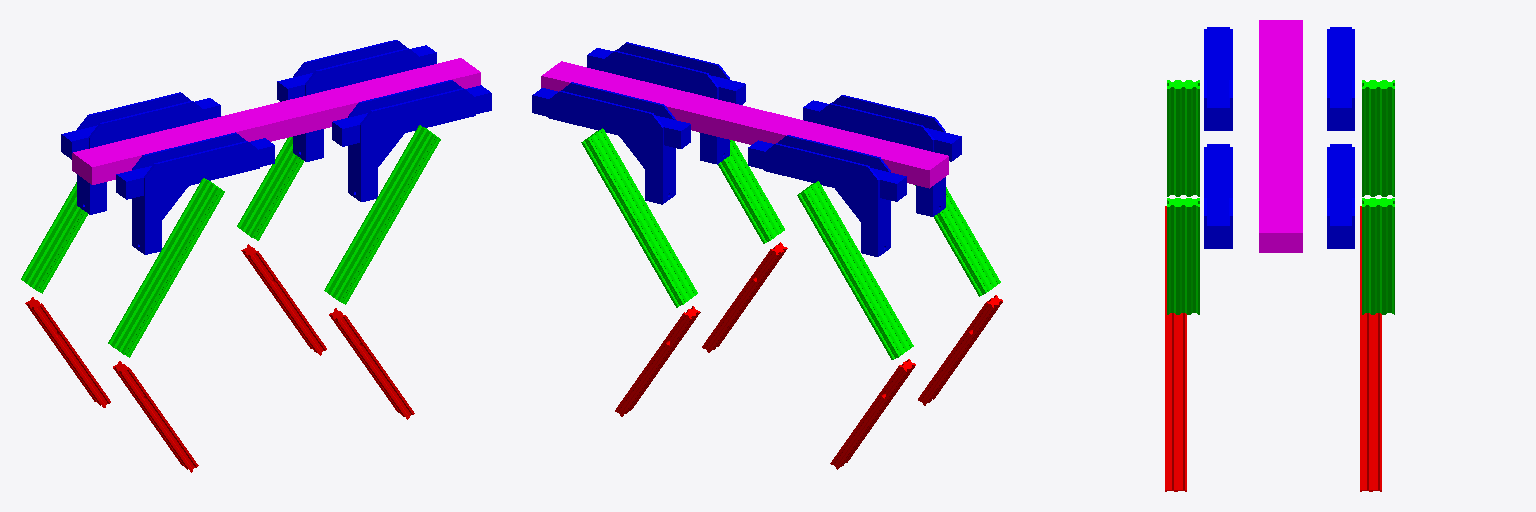
robot.urdf — test_robot:
<robot name="test_robot">
   <link name="corps">
    <contact>
      <lateral_friction value="1"/>
    </contact>
    <visual>
      <geometry>
        <mesh filename="body.stl" scale="0.01 0.01 0.01"/>
      </geometry>  
      <material name="violet">
        <color rgba="1 0 1 1"/>
      </material>
    </visual>
    <collision>
      <geometry>
        <mesh filename="body.stl" scale="0.01 0.01 0.01"/>
      </geometry>  
    </collision>
    <inertial>
    	<mass value="10"/>
       <inertia ixx="1e-3" ixy="0.0" ixz="0.0" iyy="1e-3" iyz="0.0" izz="1e-3"/>
    </inertial>
  </link>

  <link name="tibia1">
    <contact>
      <lateral_friction value="1"/>
  </contact>
    <visual>
      <origin xyz="1.5 0.5 0.5" rpy="0 0 0" />
      <geometry>
        <mesh filename="leg.stl" scale="0.01 0.01 0.01"/>
      </geometry>
      <material name="red">
        <color rgba="1 0 0 1"/>
      </material>
    </visual>
    <collision>
      <origin xyz="1.5 0.5 0.5" rpy="0 0 0" />
      <geometry>
         <mesh filename="leg.stl" scale="0.01 0.01 0.01"/>
      </geometry>
    </collision>
    <inertial>
    	<mass value="1"/>
       <inertia ixx="1e-3" ixy="0.0" ixz="0.0" iyy="1e-3" iyz="0.0" izz="1e-3"/>
    </inertial>
  </link>

  <link name="cuisse1">
    <contact>
      <lateral_friction value="1"/>
  </contact>
    <visual>
       <origin xyz="0 -0.3 -3.0" rpy="0 0 0" />
      <geometry>
       <mesh filename="leg14.stl" scale="0.01 0.01 0.01"/>
      </geometry>
      <material name="green">
        <color rgba="0 1 0 1"/>
      </material>
    </visual>
    <collision>
      <origin xyz="0 -0.3 -3.0" rpy="0 0 0" />
      <geometry>
        <mesh filename="leg14.stl" scale="0.01 0.01 0.01"/>
      </geometry>
    </collision>

   <inertial>
    	<mass value="1"/>
       <inertia ixx="1e-3" ixy="0.0" ixz="0.0" iyy="1e-3" iyz="0.0" izz="1e-3"/>
    </inertial>
  </link>

  <link name="hanche1">
    <contact>
      <lateral_friction value="1"/>
  </contact>
    <visual>
      <origin xyz="0 -0.6 -2.8" rpy="0 0 0" />
      <geometry>
        <mesh filename="hip.stl" scale="0.01 0.01 0.01"/>
      </geometry>  
      <material name="blue">
        <color rgba="0 0 1 1"/>
      </material>
    </visual>
    <collision>
      <origin xyz="0 -0.6 -2.8" rpy="0 0 0" />
      <geometry>
        <mesh filename="hip.stl" scale="0.01 0.01 0.01"/>
      </geometry>
    </collision>
    <inertial>
    	<mass value="1"/>
       <inertia ixx="1e-3" ixy="0.0" ixz="0.0" iyy="1e-3" iyz="0.0" izz="1e-3"/>
    </inertial>
  </link>

  <link name="tibia2">
    <contact>
      <lateral_friction value="1"/>
  </contact>
    <visual>
      <origin xyz="1.5 0.5 0.5" rpy="0 0 0" />
      <geometry>
        <mesh filename="leg.stl" scale="0.01 0.01 0.01"/>
      </geometry>
      <material name="red">
        <color rgba="1 0 0 1"/>
      </material>
    </visual>
    <collision>
      <origin xyz="1.5 0.5 0.5" rpy="0 0 0" />
      <geometry>
         <mesh filename="leg.stl" scale="0.01 0.01 0.01"/>
      </geometry>
    </collision>
    <inertial>
    	<mass value="1"/>
       <inertia ixx="1e-3" ixy="0.0" ixz="0.0" iyy="1e-3" iyz="0.0" izz="1e-3"/>
    </inertial>
  </link>

  <link name="cuisse2">
    <contact>
      <lateral_friction value="1"/>
  </contact>
    <visual>
       <origin xyz="0 -0.3 -3.0" rpy="0 0 0" />
      <geometry>
       <mesh filename="leg14.stl" scale="0.01 0.01 0.01"/>
      </geometry>
      <material name="green">
        <color rgba="0 1 0 1"/>
      </material>
    </visual>
    <collision>
      <origin xyz="0 -0.3 -3.0" rpy="0 0 0" />
      <geometry>
        <mesh filename="leg14.stl" scale="0.01 0.01 0.01"/>
      </geometry>
    </collision>

   <inertial>
    	<mass value="1"/>
       <inertia ixx="1e-3" ixy="0.0" ixz="0.0" iyy="1e-3" iyz="0.0" izz="1e-3"/>
    </inertial>
  </link>

  <link name="hanche2">
    <contact>
      <lateral_friction value="1"/>
  </contact>
    <visual>
      <origin xyz="0 -0.6 -2.8" rpy="0 0 0" />
      <geometry>
        <mesh filename="hip.stl" scale="0.01 0.01 0.01"/>
      </geometry>  
      <material name="blue">
        <color rgba="0 0 1 1"/>
      </material>
    </visual>
    <collision>
      <origin xyz="0 -0.6 -2.8" rpy="0 0 0" />
      <geometry>
        <mesh filename="hip.stl" scale="0.01 0.01 0.01"/>
      </geometry>
    </collision>
    <inertial>
    	<mass value="1"/>
       <inertia ixx="1e-3" ixy="0.0" ixz="0.0" iyy="1e-3" iyz="0.0" izz="1e-3"/>
    </inertial>
  </link>

  <link name="tibia3">
    <contact>
      <lateral_friction value="1"/>
  </contact>
    <visual>
      <origin xyz="1.5 0.5 0.5" rpy="0 0 0" />
      <geometry>
        <mesh filename="leg.stl" scale="0.01 0.01 0.01"/>
      </geometry>
      <material name="red">
        <color rgba="1 0 0 1"/>
      </material>
    </visual>
    <collision>
      <origin xyz="1.5 0.5 0.5" rpy="0 0 0" />
      <geometry>
         <mesh filename="leg.stl" scale="0.01 0.01 0.01"/>
      </geometry>
    </collision>
    <inertial>
    	<mass value="1"/>
       <inertia ixx="1e-3" ixy="0.0" ixz="0.0" iyy="1e-3" iyz="0.0" izz="1e-3"/>
    </inertial>
  </link>

  <link name="cuisse3">
    <contact>
      <lateral_friction value="1"/>
  </contact>
    <visual>
       <origin xyz="0 -0.3 -3.0" rpy="0 0 0" />
      <geometry>
       <mesh filename="leg14.stl" scale="0.01 0.01 0.01"/>
      </geometry>
      <material name="green">
        <color rgba="0 1 0 1"/>
      </material>
    </visual>
    <collision>
      <origin xyz="0 -0.3 -3.0" rpy="0 0 0" />
      <geometry>
        <mesh filename="leg14.stl" scale="0.01 0.01 0.01"/>
      </geometry>
    </collision>

   <inertial>
    	<mass value="1"/>
       <inertia ixx="1e-3" ixy="0.0" ixz="0.0" iyy="1e-3" iyz="0.0" izz="1e-3"/>
    </inertial>
  </link>

  <link name="hanche3">
    <contact>
      <lateral_friction value="1"/>
  </contact>
    <visual>
      <origin xyz="0 -0.6 -2.8" rpy="0 0 0" />
      <geometry>
        <mesh filename="hip.stl" scale="0.01 0.01 0.01"/>
      </geometry>  
      <material name="blue">
        <color rgba="0 0 1 1"/>
      </material>
    </visual>
    <collision>
      <origin xyz="0  -0.6 -2.8" rpy="0 0 0" />
      <geometry>
        <mesh filename="hip.stl" scale="0.01 0.01 0.01"/>
      </geometry>
    </collision>
    <inertial>
    	<mass value="1"/>
       <inertia ixx="1e-3" ixy="0.0" ixz="0.0" iyy="1e-3" iyz="0.0" izz="1e-3"/>
    </inertial>
  </link>

 <link name="tibia4">
    <contact>
      <lateral_friction value="1"/>
  </contact>
    <visual>
      <origin xyz="1.5 0.5 0.5" rpy="0 0 0" />
      <geometry>
        <mesh filename="leg.stl" scale="0.01 0.01 0.01"/>
      </geometry>
      <material name="red">
        <color rgba="1 0 0 1"/>
      </material>
    </visual>
    <collision>
      <origin xyz="1.5 0.5 0.5" rpy="0 0 0" />
      <geometry>
         <mesh filename="leg.stl" scale="0.01 0.01 0.01"/>
      </geometry>
    </collision>
    <inertial>
    	<mass value="1"/>
       <inertia ixx="1e-3" ixy="0.0" ixz="0.0" iyy="1e-3" iyz="0.0" izz="1e-3"/>
    </inertial>
  </link>

  <link name="cuisse4">
    <contact>
      <lateral_friction value="1"/>
  </contact>
    <visual>
       <origin xyz="0 -0.3 -3.0" rpy="0 0 0" />
      <geometry>
       <mesh filename="leg14.stl" scale="0.01 0.01 0.01"/>
      </geometry>
      <material name="green">
        <color rgba="0 1 0 1"/>
      </material>
    </visual>
    <collision>
      <origin xyz="0 -0.3 -3.0" rpy="0 0 0" />
      <geometry>
        <mesh filename="leg14.stl" scale="0.01 0.01 0.01"/>
      </geometry>
    </collision>

   <inertial>
    	<mass value="1"/>
       <inertia ixx="1e-3" ixy="0.0" ixz="0.0" iyy="1e-3" iyz="0.0" izz="1e-3"/>
    </inertial>
  </link>

  <link name="hanche4">
    <contact>
      <lateral_friction value="1"/>
  </contact>
    <visual>
      <origin xyz="0 -0.6 -2.8" rpy="0 0 0" />
      <geometry>
        <mesh filename="hip.stl" scale="0.01 0.01 0.01"/>
      </geometry>  
      <material name="blue">
        <color rgba="0 0 1 1"/>
      </material>
    </visual>
    <collision>
      <origin xyz="0  -0.6 -2.8" rpy="0 0 0" />
      <geometry>
        <mesh filename="hip.stl" scale="0.01 0.01 0.01"/>
      </geometry>
    </collision>
    <inertial>
    	<mass value="1"/>
       <inertia ixx="1e-3" ixy="0.0" ixz="0.0" iyy="1e-3" iyz="0.0" izz="1e-3"/>
    </inertial>
  </link>



 


<joint name="joint1" type="revolute">
    <parent link="cuisse1"/>
    <child link="tibia1"/>
    <origin xyz="-2.1 -1.0 -3.6" rpy="0 0 0" />
    <axis xyz="0 1 0" />
    <limit effort="500" lower="-1.0" upper="1.0" velocity="12"/>
  </joint>

  <joint name="joint2" type="revolute">
    <parent link="hanche1"/>
    <child link="cuisse1"/>
    <origin xyz="-0.6 0 0.2" rpy="0 0 0" />
    <axis xyz="0 1 0" />
    <limit effort="500" lower="-1.0" upper="1.0" velocity="12"/>
  </joint>

  <joint name="joint3" type="revolute">
    <parent link="corps"/>
    <child link="hanche1"/>
    <origin xyz="0 0.6 2.8" rpy="0 0 0" />
    <axis xyz="1 0 0" />
    <limit effort="500" lower="-1.0" upper="1.0" velocity="12"/>
  </joint>


<joint name="joint4" type="revolute">
    <parent link="cuisse2"/>
    <child link="tibia2"/>
    <origin xyz="-2.1 -1.0 -3.6" rpy="0 0 0" />
    <axis xyz="0 1 0" />
    <limit effort="500" lower="-1.0" upper="1.0" velocity="12"/>
  </joint>

  <joint name="joint5" type="revolute">
    <parent link="hanche2"/>
    <child link="cuisse2"/>
    <origin xyz="-0.6 0 0.2" rpy="0 0 0" />
    <axis xyz="0 1 0" />
    <limit effort="500" lower="-1.0" upper="1.0" velocity="12"/>
  </joint>

  <joint name="joint6" type="revolute">
    <parent link="corps"/>
    <child link="hanche2"/>
    <origin xyz="5.0 0.6 2.8" rpy="0 0 0" />
    <axis xyz="1 0 0" />
    <limit effort="500" lower="-1.0" upper="1.0" velocity="12"/>
  </joint>


<joint name="joint7" type="revolute">
    <parent link="cuisse3"/>
    <child link="tibia3"/>
    <origin xyz="-2.1 -1.0 -3.6" rpy="0 0 0" />
    <axis xyz="0 1 0" />
    <limit effort="500" lower="-1.0" upper="1.0" velocity="12"/>
  </joint>

  <joint name="joint8" type="revolute">
    <parent link="hanche3"/>
    <child link="cuisse3"/>
    <origin xyz="-0.6 1.3 0.2" rpy="0 0 0" />
    <axis xyz="0 1 0" />
    <limit effort="500" lower="-1.0" upper="1.0" velocity="12"/>
  </joint>

  <joint name="joint9" type="revolute">
    <parent link="corps"/>
    <child link="hanche3"/>
    <origin xyz="5.0 2.8 2.8" rpy="0 0 0" />
    <axis xyz="1 0 0" />
    <limit effort="500" lower="-1.0" upper="1.0" velocity="12"/>
  </joint>


<joint name="joint10" type="revolute">
    <parent link="cuisse4"/>
    <child link="tibia4"/>
    <origin xyz="-2.1 -1.0 -3.6" rpy="0 0 0" />
    <axis xyz="0 1 0" />
    <limit effort="500" lower="-1.0" upper="1.0" velocity="12"/>
  </joint>

  <joint name="joint11" type="revolute">
    <parent link="hanche4"/>
    <child link="cuisse4"/>
    <origin xyz="-0.6 1.3 0.2" rpy="0 0 0" />
    <axis xyz="0 1 0" />
    <limit effort="500" lower="-1.0" upper="1.0" velocity="12"/>
  </joint>

  <joint name="joint12" type="revolute">
    <parent link="corps"/>
    <child link="hanche4"/>
    <origin xyz="0.0 2.8 2.8" rpy="0 0 0" />
    <axis xyz="1 0 0" />
    <limit effort="500" lower="-1.0" upper="1.0" velocity="12"/>
  </joint>


</robot>

--- Facts derived from the render (not from the file) ---
Views: 3 orthographic renders of the robot side by side, from view 1: azimuth 30°, elevation 25°; view 2: azimuth 150°, elevation 25°; view 3: azimuth 270°, elevation 25°.
Robot: test_robot — 13 links, 12 joints (12 revolute); root link corps; default pose: every joint at zero.
Links seen in each view (by area): view 1: corps, hanche2, hanche1, hanche4, hanche3, cuisse1, cuisse2, cuisse4, cuisse3, tibia1, tibia2, tibia4 (+1 smaller); view 2: corps, hanche3, hanche4, hanche1, hanche2, cuisse3, cuisse4, cuisse1, cuisse2, tibia1, tibia4, tibia2 (+1 smaller); view 3: corps, cuisse2, cuisse3, cuisse1, cuisse4, tibia2, tibia3, hanche2, hanche1, hanche3, hanche4.
Link boxes in pixels (box(x1,y1,x2,y2)): corps: box(72, 58, 480, 184); hanche2: box(332, 80, 491, 201); hanche1: box(116, 132, 274, 254); hanche4: box(61, 92, 220, 214); hanche3: box(277, 40, 436, 161); cuisse1: box(108, 178, 224, 357); cuisse2: box(324, 125, 440, 304); cuisse4: box(21, 182, 87, 293); cuisse3: box(237, 137, 303, 240); tibia1: box(113, 361, 198, 472); tibia2: box(329, 308, 414, 419); tibia4: box(25, 297, 110, 407); corps: box(541, 61, 948, 188); hanche3: box(532, 82, 690, 204); hanche4: box(748, 135, 906, 256); hanche1: box(803, 95, 961, 216); hanche2: box(587, 42, 745, 164); cuisse3: box(581, 128, 697, 307); cuisse4: box(797, 181, 913, 359); cuisse1: box(915, 185, 1000, 296); cuisse2: box(699, 132, 784, 243); tibia1: box(918, 295, 1002, 405); tibia4: box(830, 359, 915, 469); tibia2: box(702, 242, 787, 352); corps: box(1259, 20, 1302, 252); cuisse2: box(1167, 198, 1199, 314); cuisse3: box(1362, 198, 1394, 314); cuisse1: box(1167, 80, 1199, 196); cuisse4: box(1362, 80, 1394, 196); tibia2: box(1165, 324, 1186, 491); tibia3: box(1360, 324, 1381, 491); hanche2: box(1204, 144, 1232, 248); hanche1: box(1204, 27, 1232, 130); hanche3: box(1327, 144, 1354, 248); hanche4: box(1327, 27, 1354, 130).
Size in the robot's own frame: 9.28 by 4.14 by 6.63 metres.
Meshes: 4 distinct files referenced, 13 mesh visuals loaded (4 binary STL).